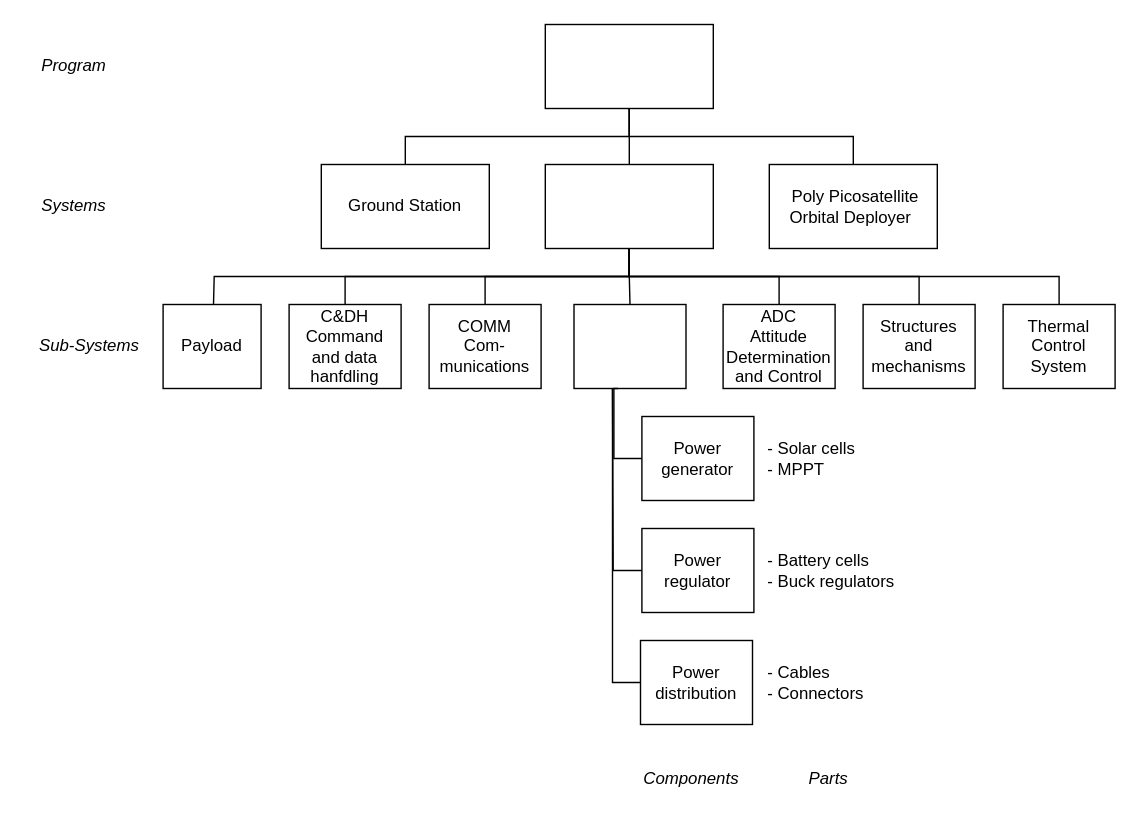
Image size: 1140x825. Some labels were removed from this diagram. Here are the shapes that lost their labels. From the top down, the box of each, then its label:
(544, 23, 713, 108): Cubesat program
(544, 163, 713, 248): Cubesat satellite
(573, 303, 686, 388): EPS Electrical Power System
